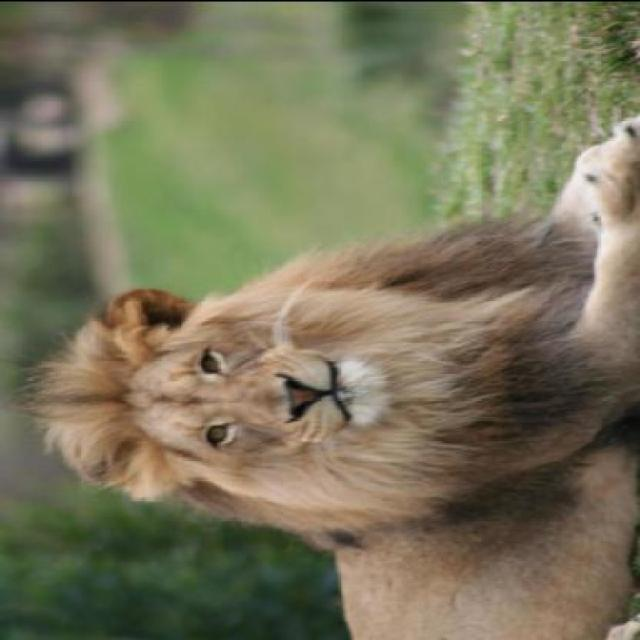Lion: (9, 108, 638, 634)
